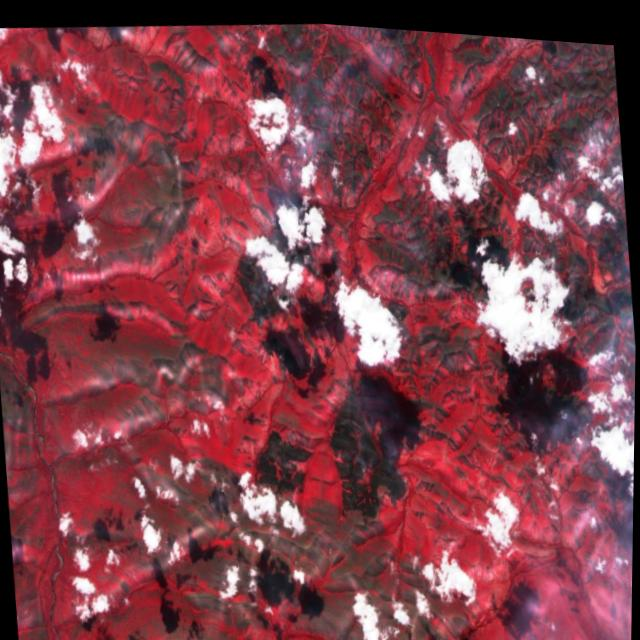fire: (231, 233, 337, 375), (331, 407, 412, 516)
